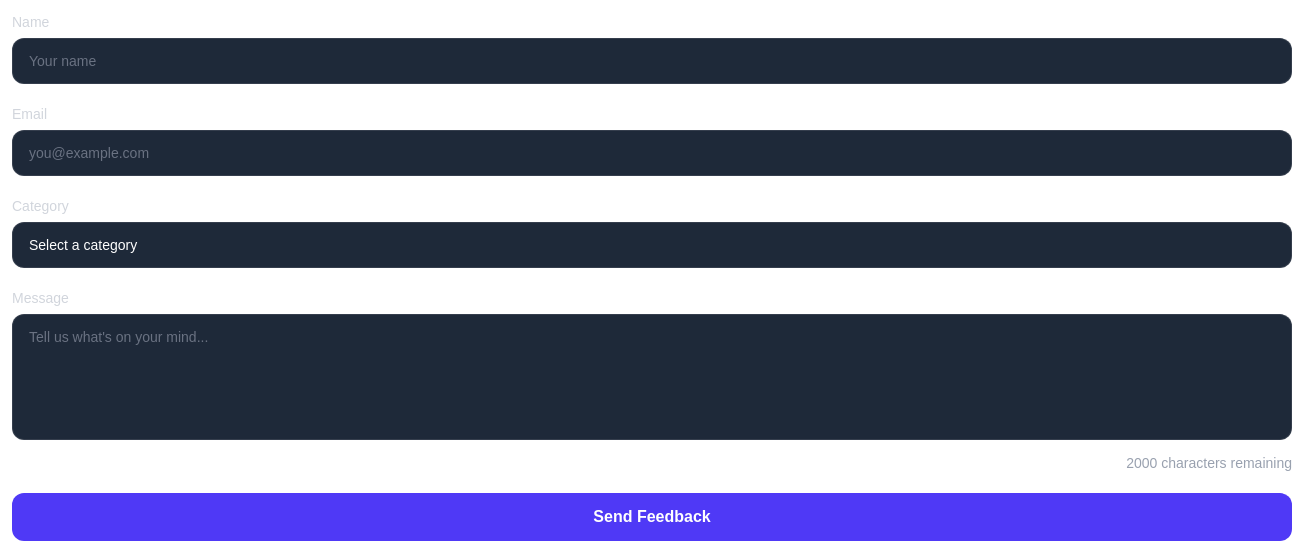
Test: FeedbackForm › disables submit button and shows spinner while submitting
Type "Test User" into the field labelled "Name" at (652, 61), box [12,38,1292,84]
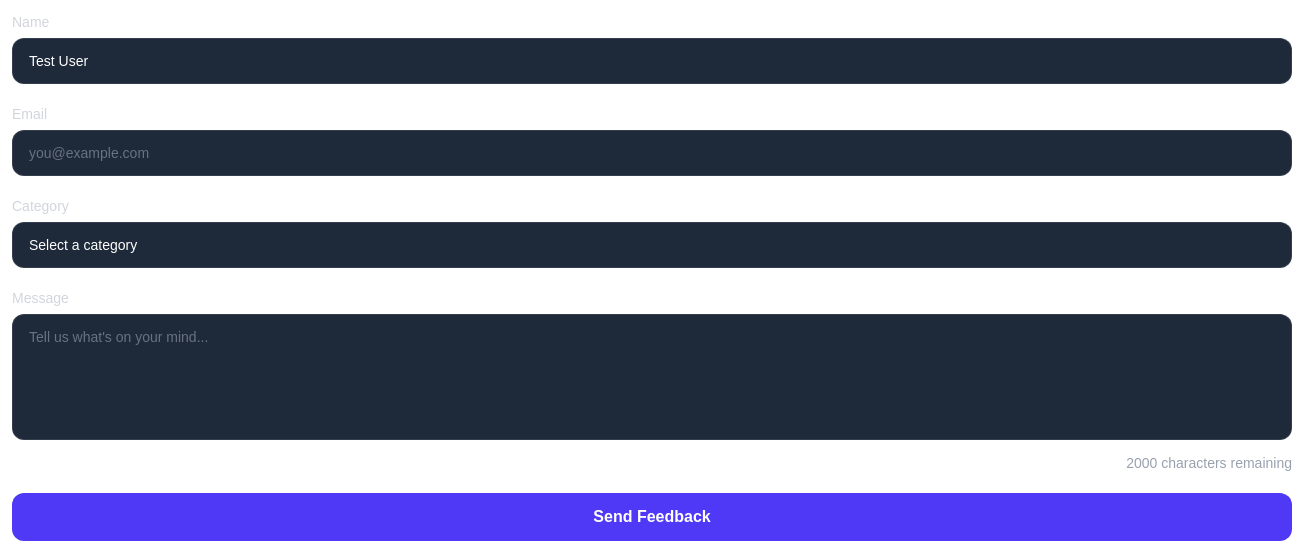
Type "test@example.com" into the field labelled "Email" at (652, 153), box [12,130,1292,176]
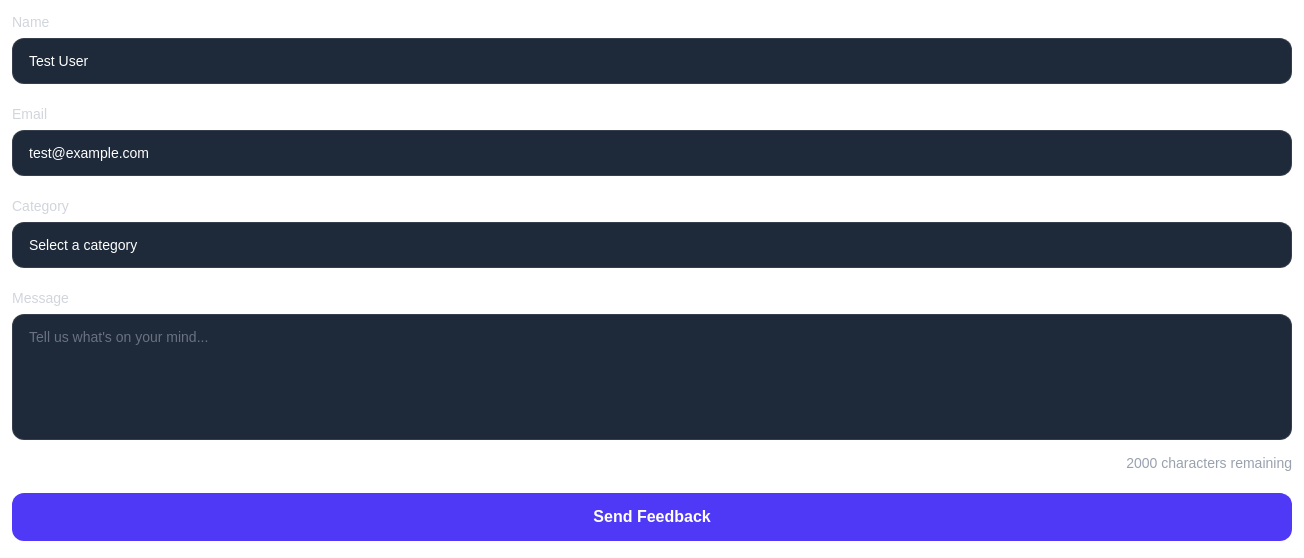
Select "Bug Report" in the dropdown labelled "Category" at (652, 245), box [12,222,1292,268]
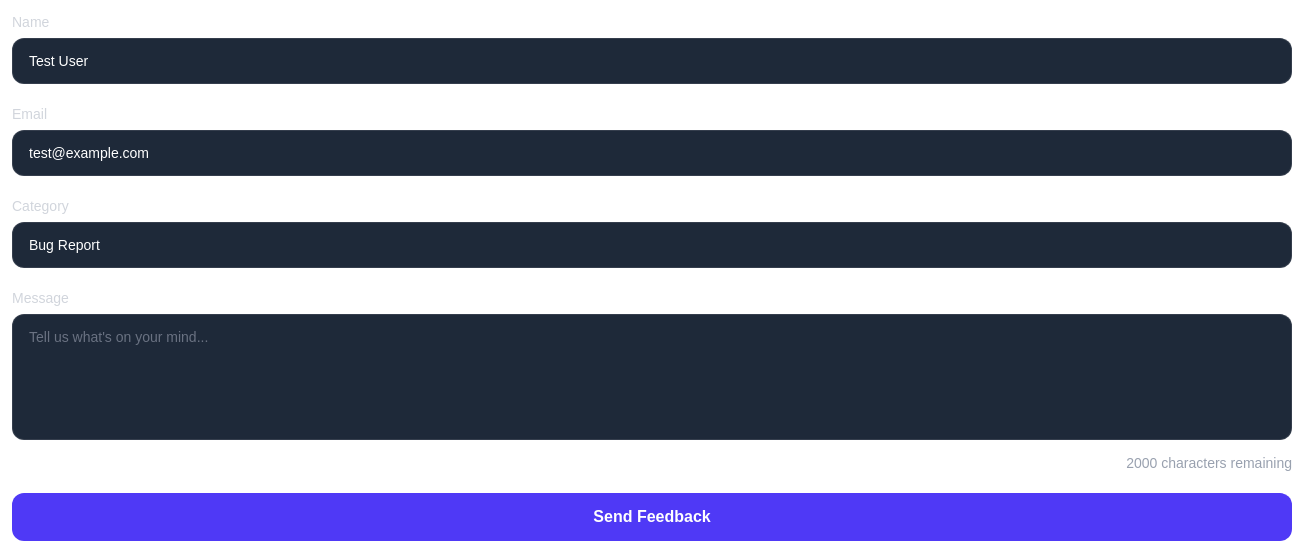
Type "This is a test message that is long enough." into the text box labelled "Message" at (652, 377), box [12,314,1292,440]
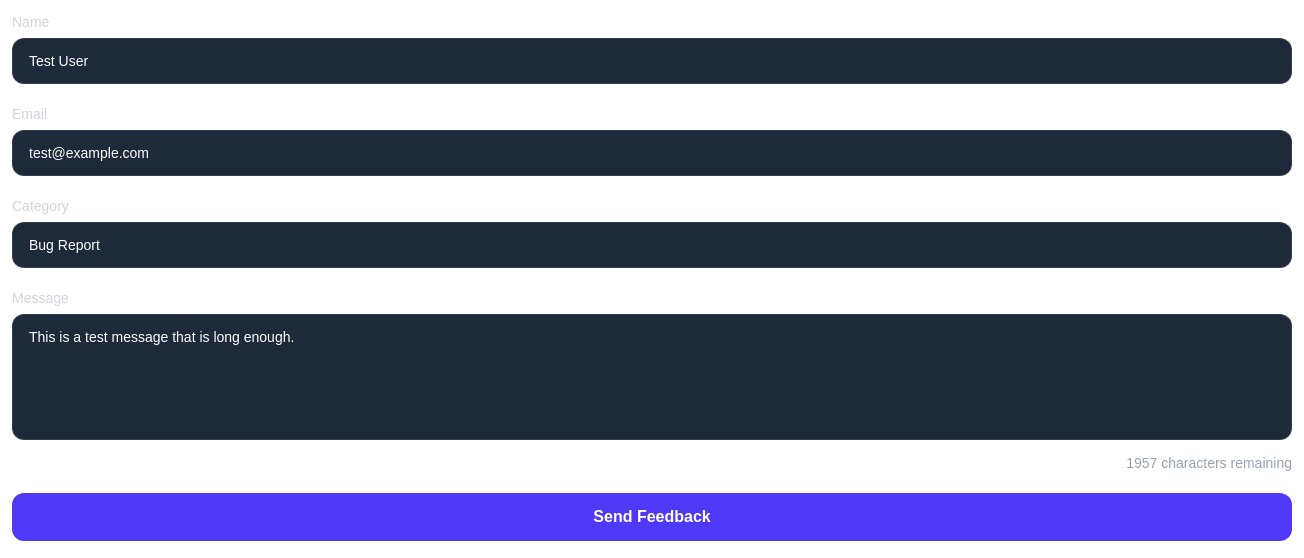
Click the button "Send Feedback" at (652, 517), box [12,493,1292,541]
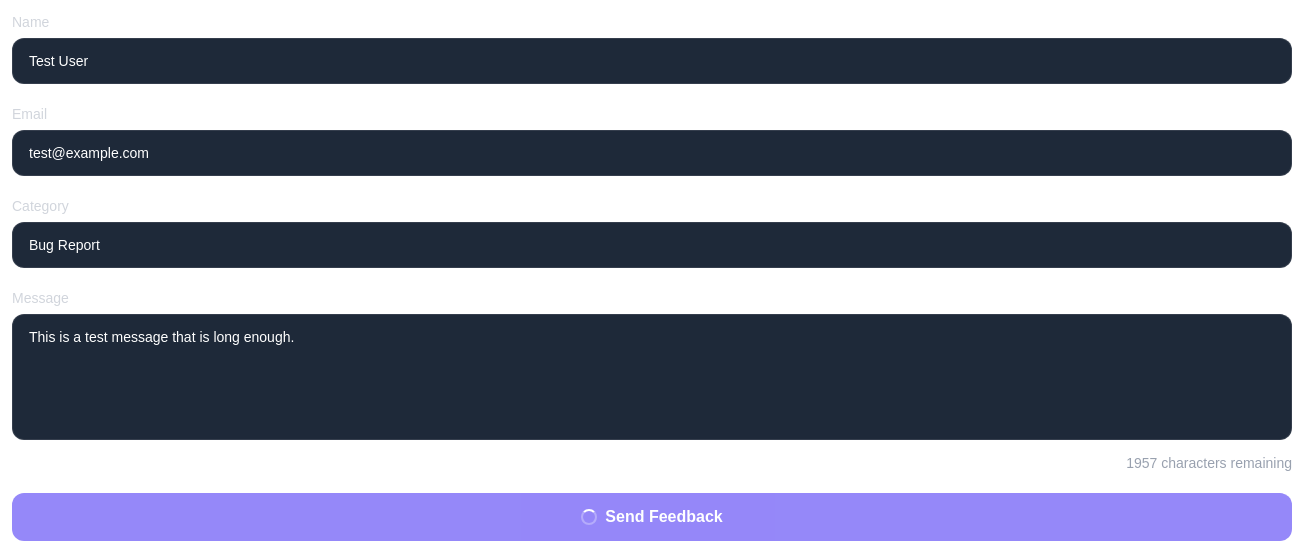
Result: the button "Send Feedback" is disabled at [12,493,1292,541]
Result: the element with class "animate-spin" is shown at [581,509,597,525]
